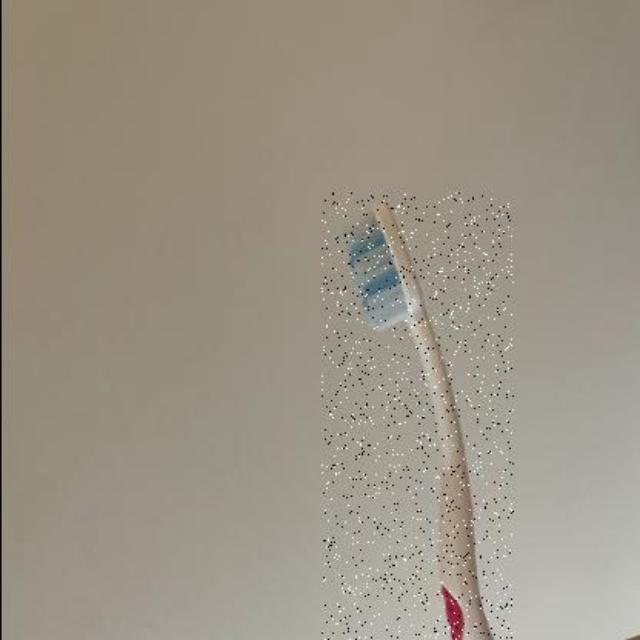toothbrush: (320, 192, 512, 640)
